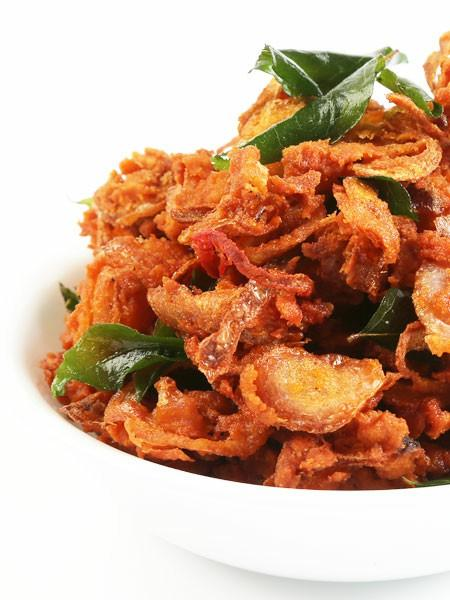OnionPakoda: (43, 29, 450, 489)
